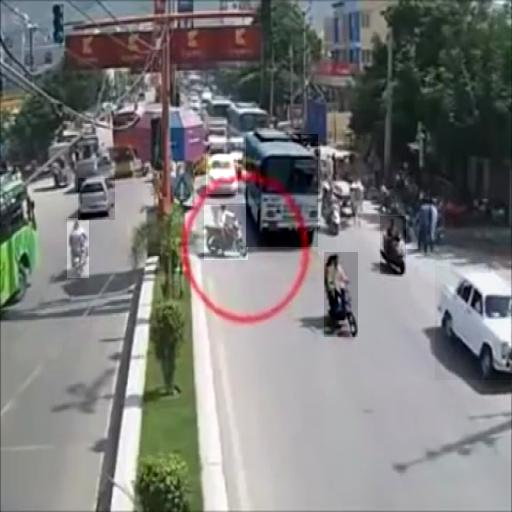小汽车: (435, 266, 512, 380), (246, 134, 318, 247), (78, 178, 115, 220), (206, 154, 238, 194)
自行车: (324, 252, 358, 337), (204, 205, 248, 260), (380, 216, 406, 274), (67, 218, 89, 278)
